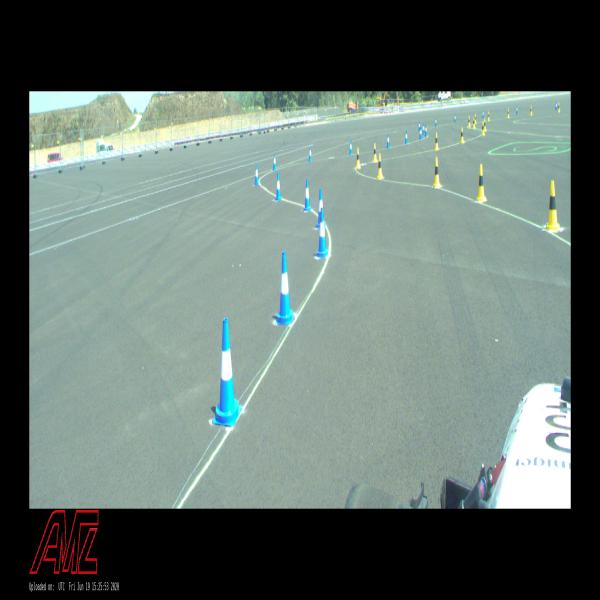blue_cone: (212, 318, 242, 427), (275, 251, 294, 324), (316, 208, 328, 258), (316, 188, 326, 228), (304, 178, 311, 211), (275, 173, 282, 201), (254, 164, 259, 185), (272, 153, 276, 171), (308, 146, 312, 162), (349, 140, 353, 155), (386, 133, 390, 148), (405, 130, 408, 144), (419, 127, 422, 140), (418, 121, 421, 131), (425, 125, 427, 137), (422, 124, 424, 134), (516, 105, 518, 114), (454, 114, 456, 123), (556, 102, 558, 110), (482, 110, 484, 118), (435, 118, 437, 126)
yellow_cone: (546, 180, 560, 230), (476, 163, 488, 202), (433, 157, 441, 187), (377, 154, 384, 180), (372, 143, 378, 162), (356, 147, 361, 168), (435, 132, 440, 150), (460, 127, 465, 144), (481, 120, 485, 136), (484, 118, 487, 132), (473, 117, 476, 128), (474, 113, 477, 124), (530, 106, 533, 116), (507, 108, 510, 118), (468, 116, 470, 127), (558, 102, 560, 112), (488, 112, 490, 121)
